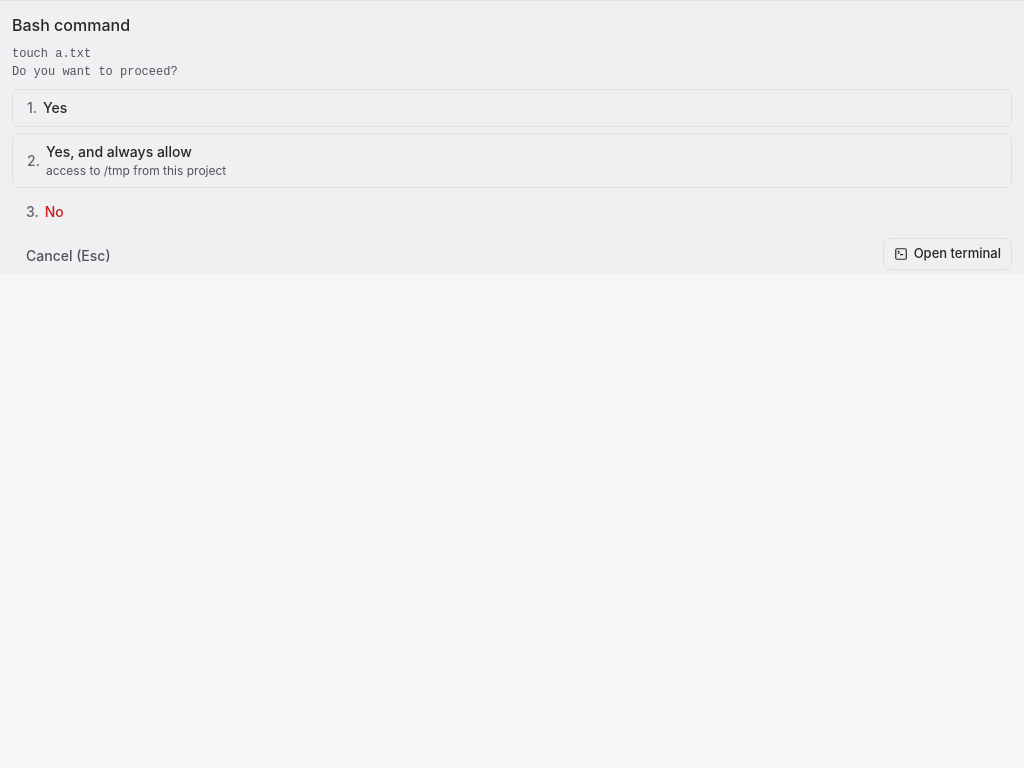
Scenario: PromptCard › Zellij busy: nothing was sent, the buttons stay to try again
The width and height of the screenshot is (1024, 768).
Click the button "1. Yes" at (30,108), box top-left (12, 89), bottom-right (1012, 127)
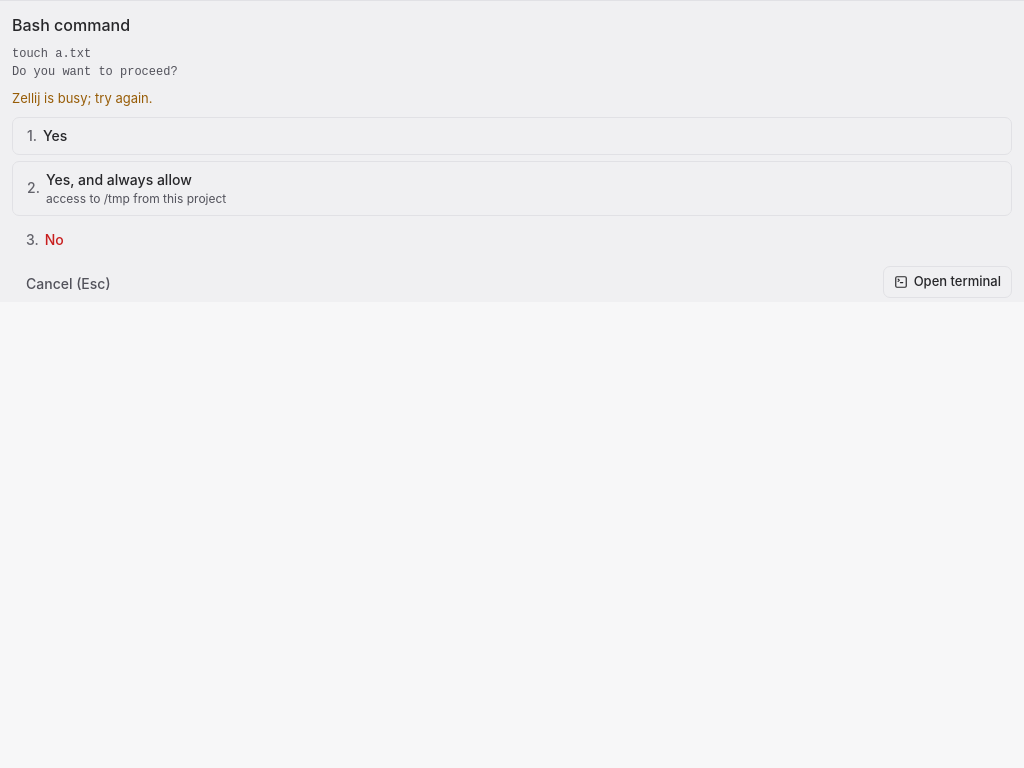
Expected: the button "1. Yes" is enabled, top-left (12, 116), bottom-right (1012, 154)
Result: the text "Zellij is busy; try again." is shown at top-left (12, 90), bottom-right (152, 106)
